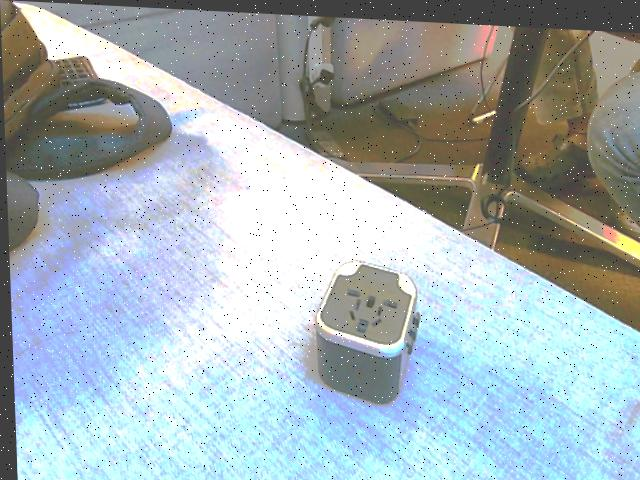adapter: (309, 253, 420, 402)
